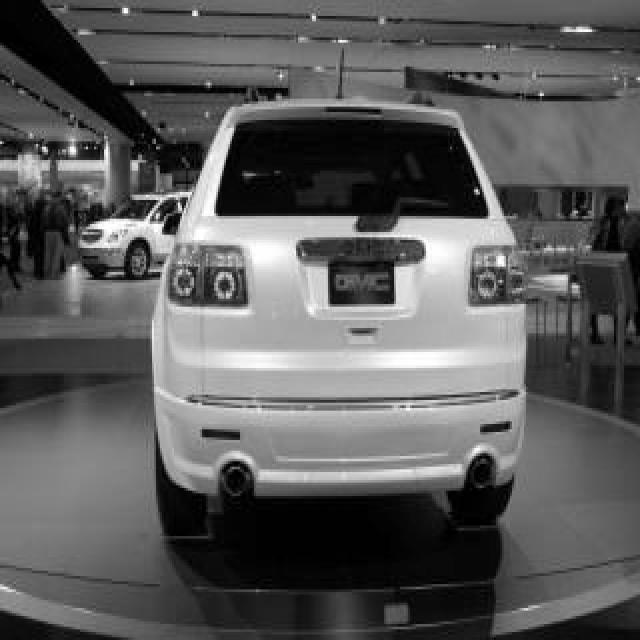Car: (153, 102, 526, 535)
